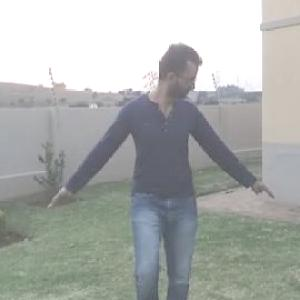land: (49, 40, 274, 299)
